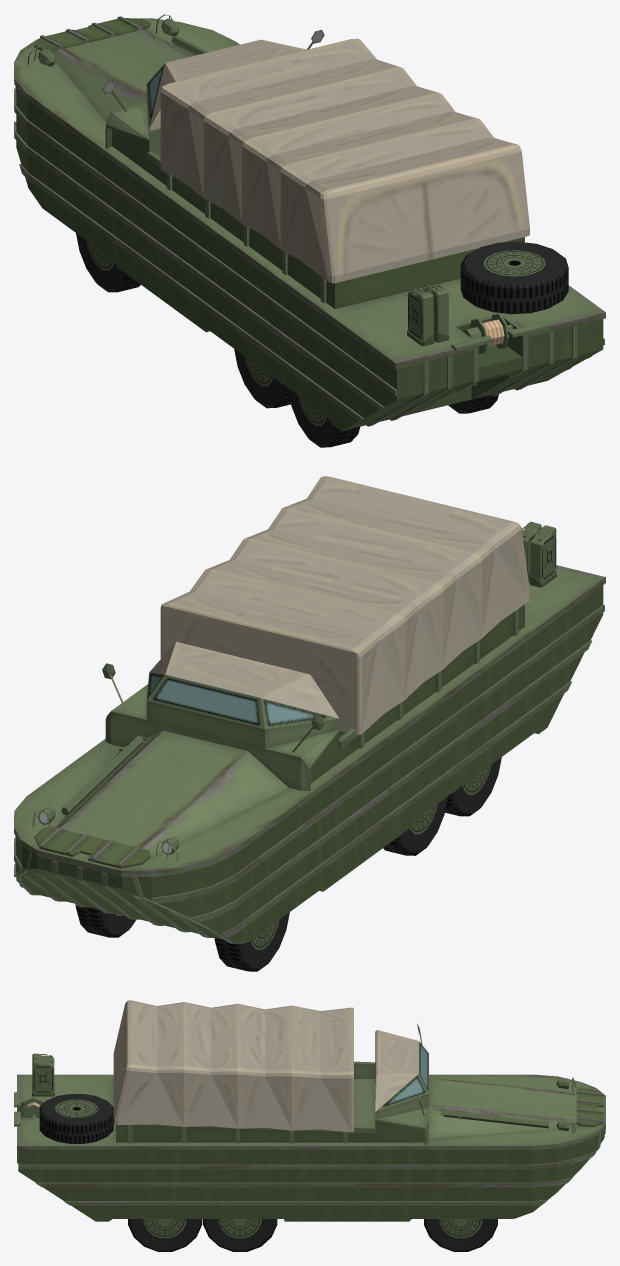
The model's file is dukw.glb.
3 views of the same model, one above another, from view 1: azimuth 30°, elevation 25°; view 2: azimuth 150°, elevation 25°; view 3: azimuth 270°, elevation 25° (orthographic). The views are drawn at different scales.
Parts seen in each view (by area): view 1: 00_chassis_dukw_chassis.mesh, 06_tire_index_4_dukw_wheel.mesh, 02_tire_index_0_dukw_wheel.mesh, 04_tire_index_2_dukw_wheel.mesh; view 2: 00_chassis_dukw_chassis.mesh, 02_tire_index_0_dukw_wheel.mesh, 06_tire_index_4_dukw_wheel.mesh, 04_tire_index_2_dukw_wheel.mesh, 03_tire_index_1_dukw_wheel.mesh; view 3: 00_chassis_dukw_chassis.mesh, 05_tire_index_3_dukw_wheel.mesh, 07_tire_index_5_dukw_wheel.mesh, 03_tire_index_1_dukw_wheel.mesh.
Part boxes in pixels (x1,y1,x2,y2): 00_chassis_dukw_chassis.mesh: [14, 14, 605, 431]; 06_tire_index_4_dukw_wheel.mesh: [288, 388, 360, 447]; 02_tire_index_0_dukw_wheel.mesh: [76, 233, 140, 292]; 04_tire_index_2_dukw_wheel.mesh: [234, 349, 290, 408]; 00_chassis_dukw_chassis.mesh: [14, 476, 605, 943]; 02_tire_index_0_dukw_wheel.mesh: [214, 912, 289, 971]; 06_tire_index_4_dukw_wheel.mesh: [445, 757, 501, 816]; 04_tire_index_2_dukw_wheel.mesh: [383, 796, 447, 855]; 03_tire_index_1_dukw_wheel.mesh: [75, 905, 135, 937]; 00_chassis_dukw_chassis.mesh: [14, 1000, 605, 1221]; 05_tire_index_3_dukw_wheel.mesh: [203, 1219, 277, 1251]; 07_tire_index_5_dukw_wheel.mesh: [128, 1219, 202, 1251]; 03_tire_index_1_dukw_wheel.mesh: [424, 1219, 497, 1251].
Size of the model in its own units: 3.2 by 3.78 by 10.56.
Materials: 37 (1 with a texture image).
